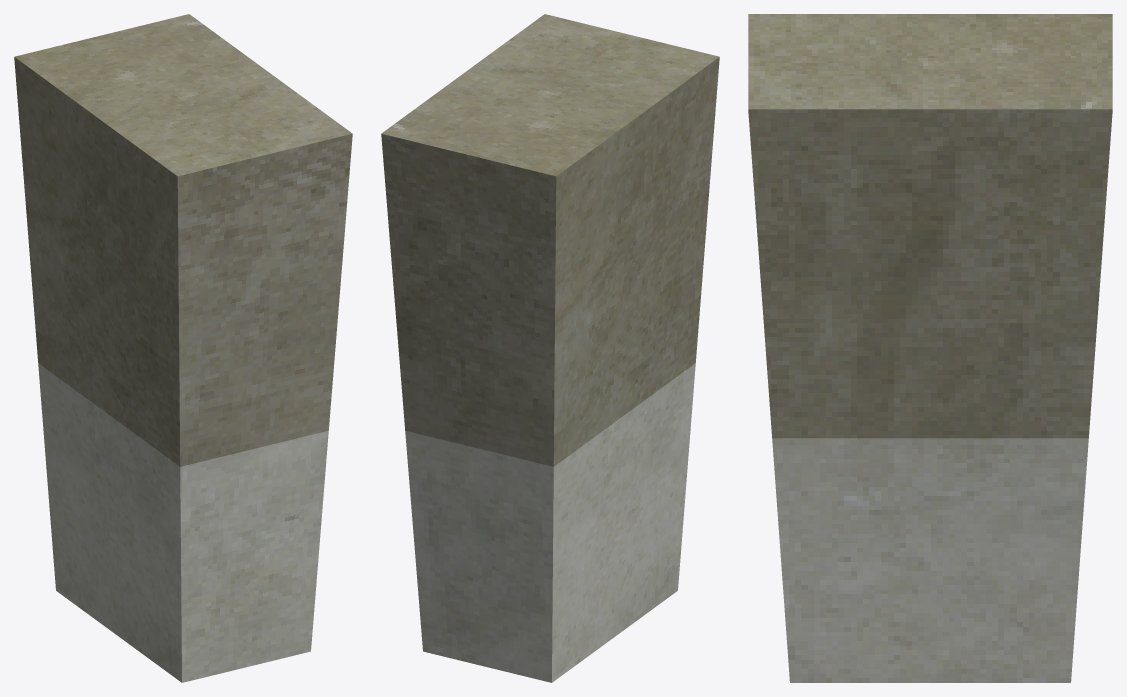
File: MotorwayBridgePillar.glb
3 renders of one model, left to right at view 1: azimuth 30°, elevation 25°; view 2: azimuth 150°, elevation 25°; view 3: azimuth 270°, elevation 25°, orthographic. The views are drawn at different scales.
Visible parts, largest first — view 1: Cube; view 2: Cube; view 3: Cube.
Part boxes in pixels (x1,y1,x2,y2): Cube: [14, 14, 352, 682]; Cube: [381, 14, 719, 682]; Cube: [748, 14, 1112, 682].
Size of the model in its own units: 3.94 by 11.3 by 6.37.
2 materials, 2 textured.
